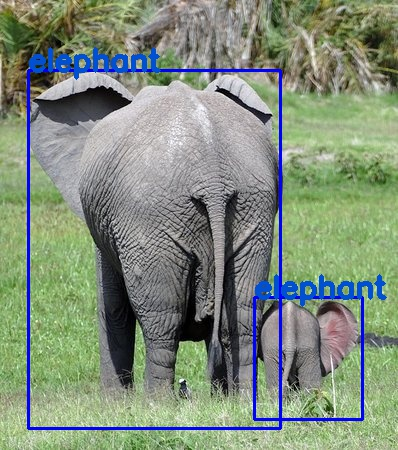elephant: (28, 69, 280, 427), (253, 297, 361, 419)
